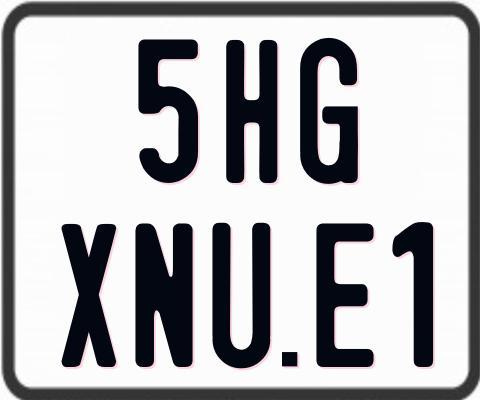1: (391, 219, 432, 368)
5: (135, 36, 197, 185)
E: (316, 223, 375, 369)
G: (300, 36, 359, 184)
H: (224, 40, 280, 184)
N: (133, 223, 193, 368)
U: (209, 222, 273, 368)
X: (59, 224, 117, 370)
